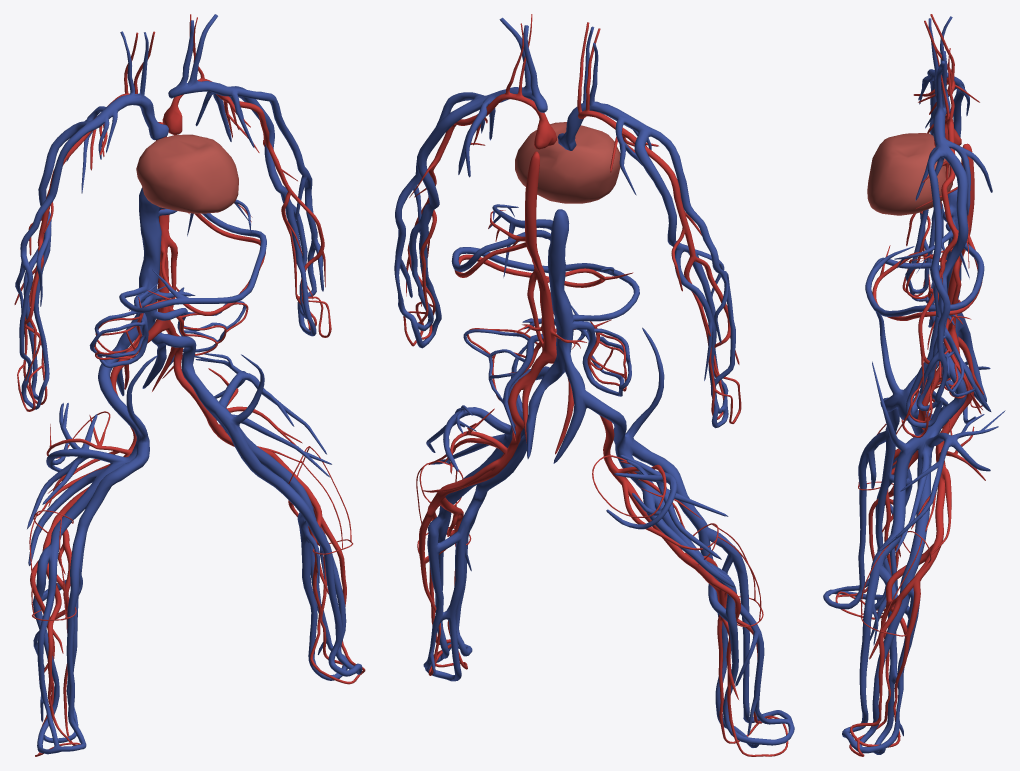
Rendered from pediatric_neonate_female.cardiovascular.LOD1.glb.
3 views of the same model, side by side, from view 1: azimuth 30°, elevation 25°; view 2: azimuth 150°, elevation 25°; view 3: azimuth 270°, elevation 25° (orthographic). The views are drawn at different scales.
Visible parts, largest first — view 1: PEDIATRIC.NEONATE.FEMALE.CARDIOVASCULAR.BLOOD_IN_LARGE_VEINS, PEDIATRIC.NEONATE.FEMALE.CARDIOVASCULAR.BLOOD_IN_LARGE_ARTER, PEDIATRIC.NEONATE.FEMALE.CARDIOVASCULAR.HEART_WALL; view 2: PEDIATRIC.NEONATE.FEMALE.CARDIOVASCULAR.BLOOD_IN_LARGE_VEINS, PEDIATRIC.NEONATE.FEMALE.CARDIOVASCULAR.BLOOD_IN_LARGE_ARTER, PEDIATRIC.NEONATE.FEMALE.CARDIOVASCULAR.HEART_WALL; view 3: PEDIATRIC.NEONATE.FEMALE.CARDIOVASCULAR.BLOOD_IN_LARGE_VEINS, PEDIATRIC.NEONATE.FEMALE.CARDIOVASCULAR.BLOOD_IN_LARGE_ARTER, PEDIATRIC.NEONATE.FEMALE.CARDIOVASCULAR.HEART_WALL.
Part boxes in pixels (x1,y1,x2,y2): PEDIATRIC.NEONATE.FEMALE.CARDIOVASCULAR.BLOOD_IN_LARGE_VEINS: (15,14,362,754); PEDIATRIC.NEONATE.FEMALE.CARDIOVASCULAR.BLOOD_IN_LARGE_ARTER: (14,14,365,756); PEDIATRIC.NEONATE.FEMALE.CARDIOVASCULAR.HEART_WALL: (136,134,238,213); PEDIATRIC.NEONATE.FEMALE.CARDIOVASCULAR.BLOOD_IN_LARGE_VEINS: (394,17,794,747); PEDIATRIC.NEONATE.FEMALE.CARDIOVASCULAR.BLOOD_IN_LARGE_ARTER: (403,14,788,756); PEDIATRIC.NEONATE.FEMALE.CARDIOVASCULAR.HEART_WALL: (515,122,620,203); PEDIATRIC.NEONATE.FEMALE.CARDIOVASCULAR.BLOOD_IN_LARGE_VEINS: (823,16,1005,754); PEDIATRIC.NEONATE.FEMALE.CARDIOVASCULAR.BLOOD_IN_LARGE_ARTER: (835,14,985,756); PEDIATRIC.NEONATE.FEMALE.CARDIOVASCULAR.HEART_WALL: (867,133,952,215).
Bounding box in the file's own units: 0.1944 × 0.3764 × 0.0949.
